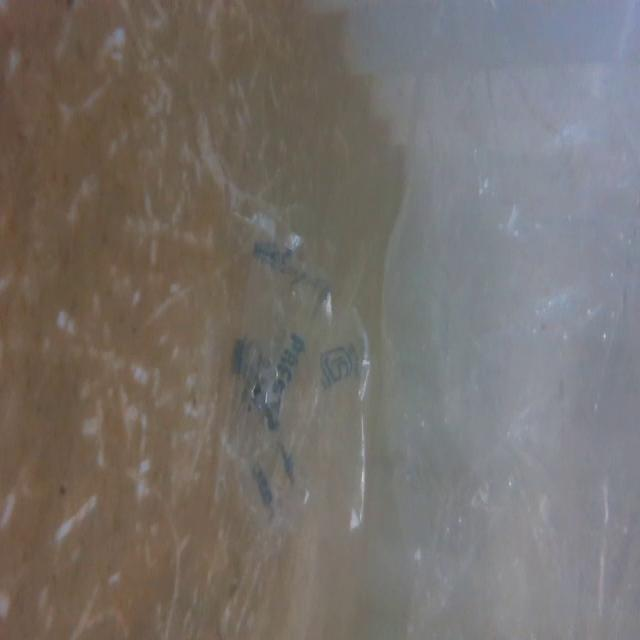plastic bags: (212, 198, 377, 569)
